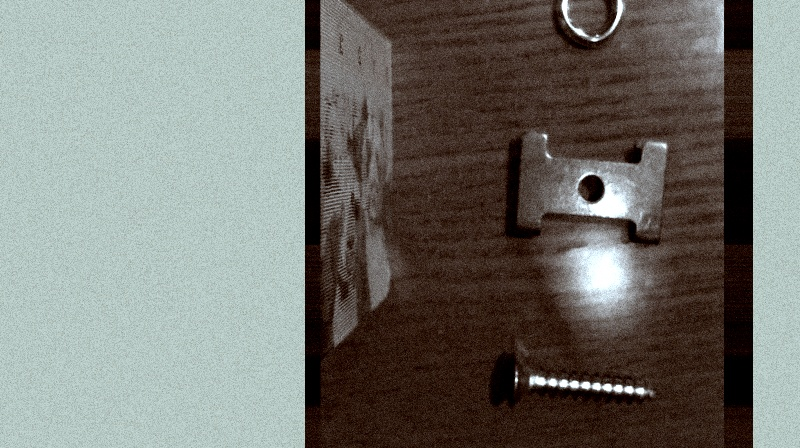O001: (552, 0, 627, 50)
O002: (508, 126, 669, 247)
S001: (500, 341, 661, 416)
